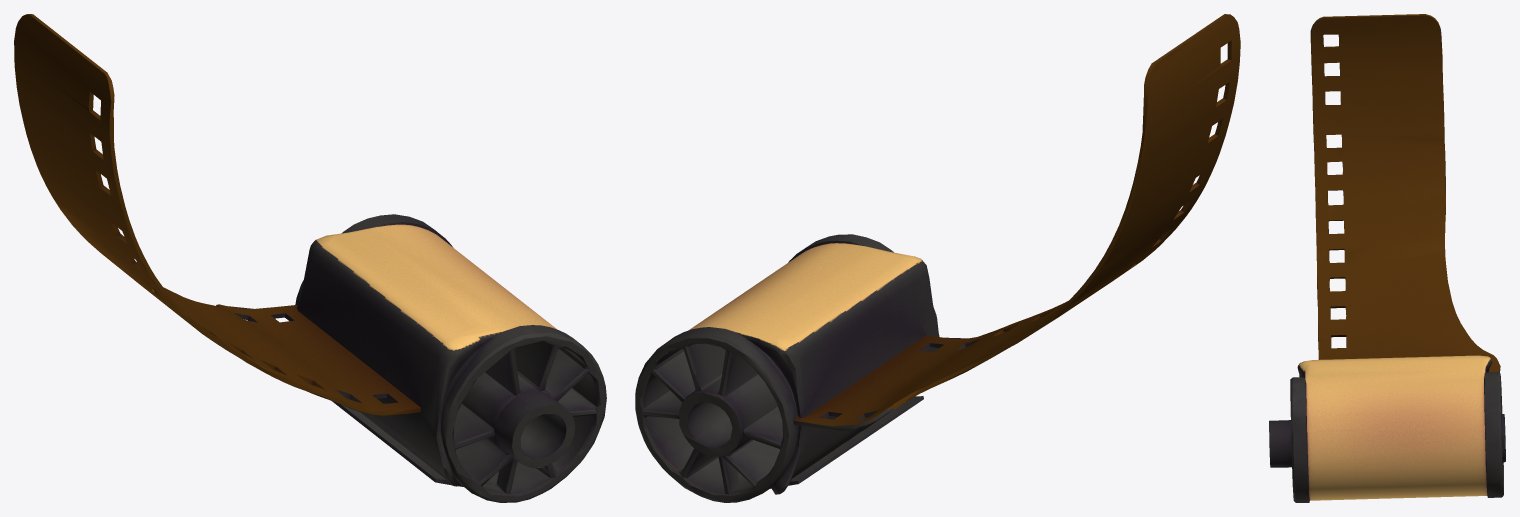
Rendered from Bromo.fbx.
3 renders of one model, left to right at view 1: azimuth 30°, elevation 25°; view 2: azimuth 150°, elevation 25°; view 3: azimuth 270°, elevation 25°, orthographic. The views are drawn at different scales.
Visible parts, largest first — view 1: Br-RolloPelicula; view 2: Br-RolloPelicula; view 3: Br-RolloPelicula.
Part boxes in pixels (box(x1,y1,x2,y2)): Br-RolloPelicula: box(14, 14, 606, 502); Br-RolloPelicula: box(635, 14, 1240, 502); Br-RolloPelicula: box(1269, 14, 1505, 502).
Size of the model in its own units: 4108 by 4159 by 2546.
Materials: 1 (1 with a texture image).
